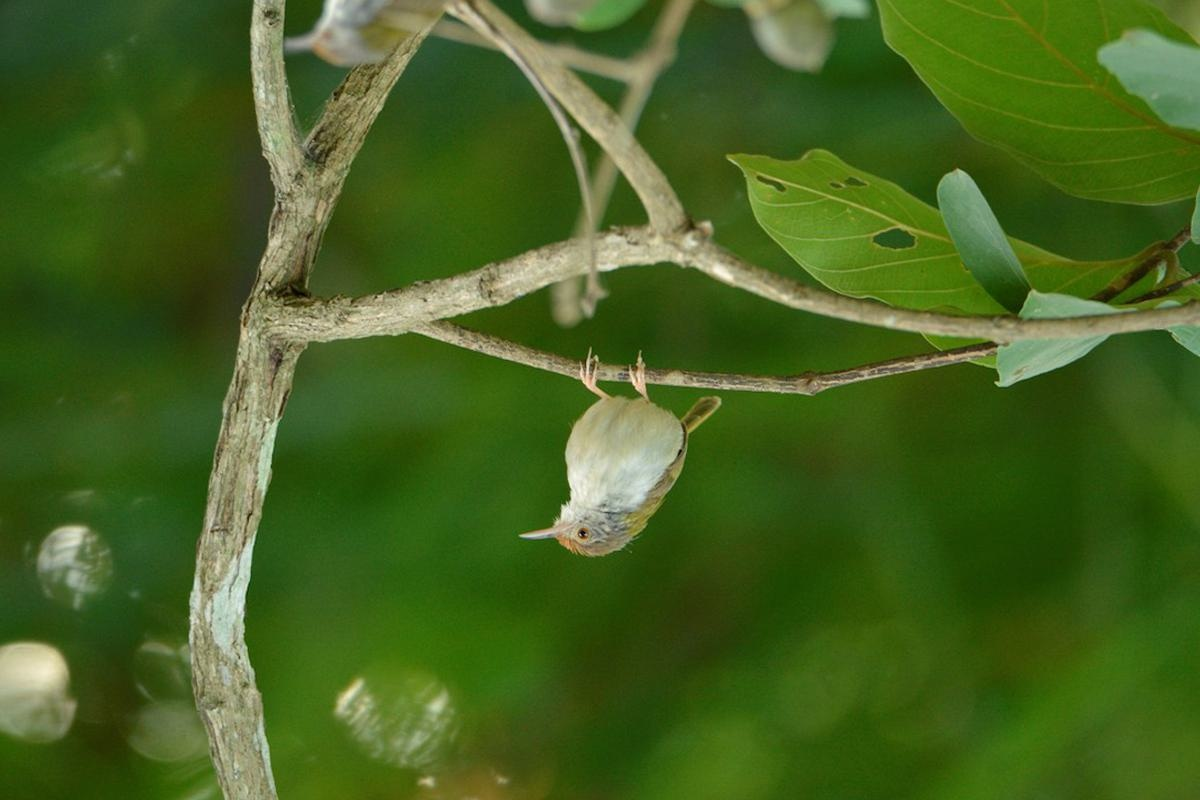tailorbird: (505, 380, 740, 571)
